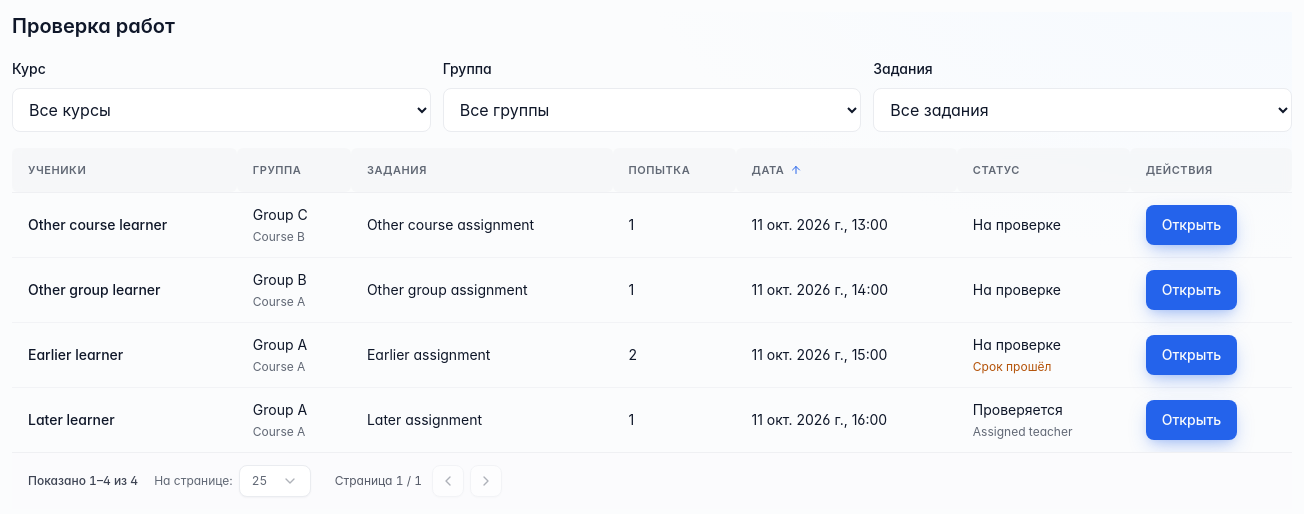
Test: staff LMS interaction › shows the review DataTable oldest first and narrows it by course, group and assignment
expect the row that starts with "Other course learner" is shown: met, box top-left (28, 216), bottom-right (167, 232)
expect the text "Assigned teacher" is shown: met, box top-left (973, 424), bottom-right (1072, 438)
Select "Course A" in the dropdown labelled "Курс" at (221, 110), box top-left (12, 88), bottom-right (431, 132)
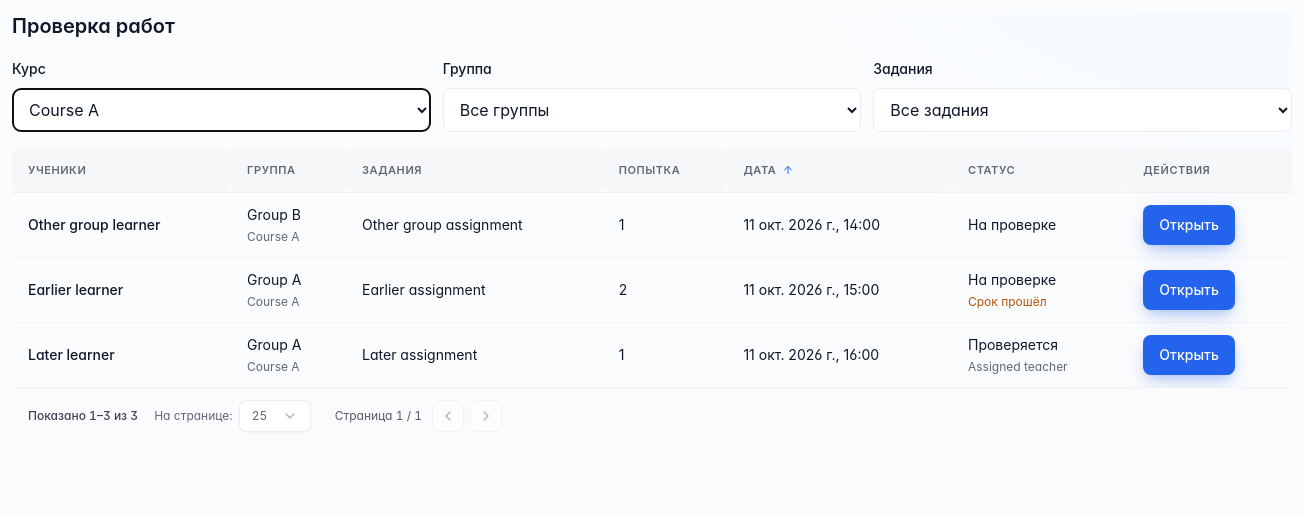
expect the text "Other course learner" is gone: met
Select "Group A" in the dropdown labelled "Группа" at (652, 110), box top-left (443, 88), bottom-right (861, 132)
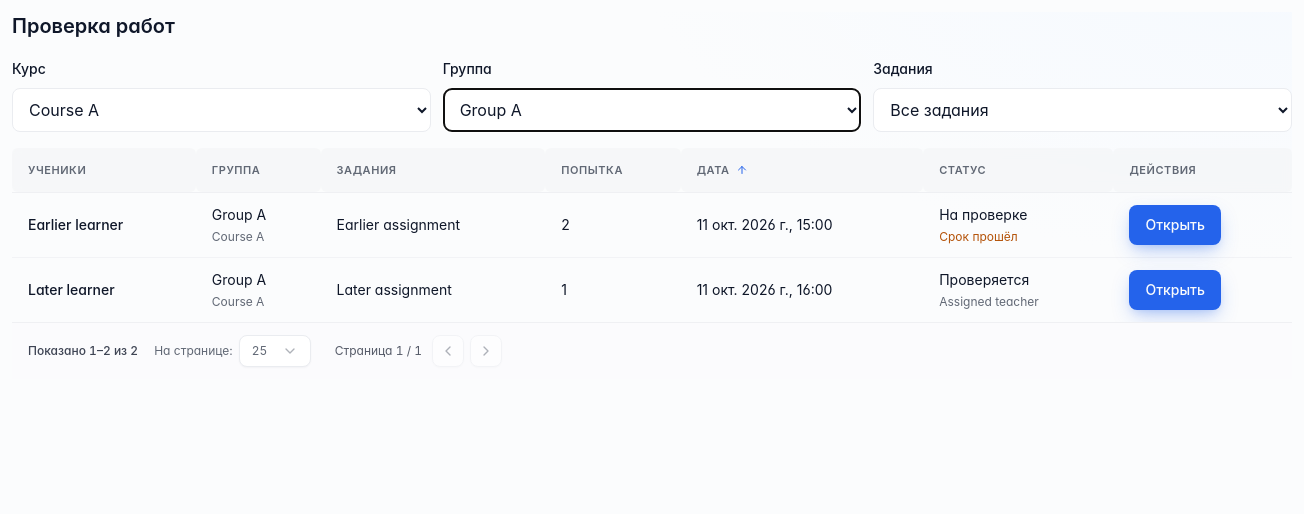
expect the text "Other group learner" is gone: met
Select "Earlier assignment" in the dropdown labelled "Задания" at (1083, 110), box top-left (873, 88), bottom-right (1292, 132)
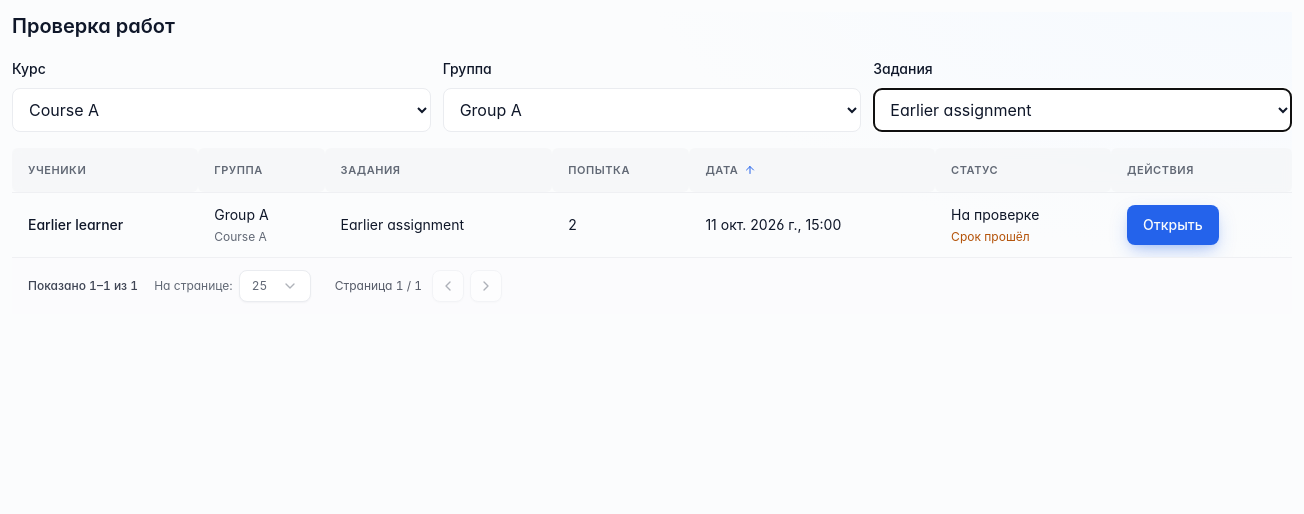
expect the number of rows is 2: met, box top-left (12, 148), bottom-right (1292, 192); top-left (12, 192), bottom-right (1292, 256)
expect the text "Later learner" is gone: met
